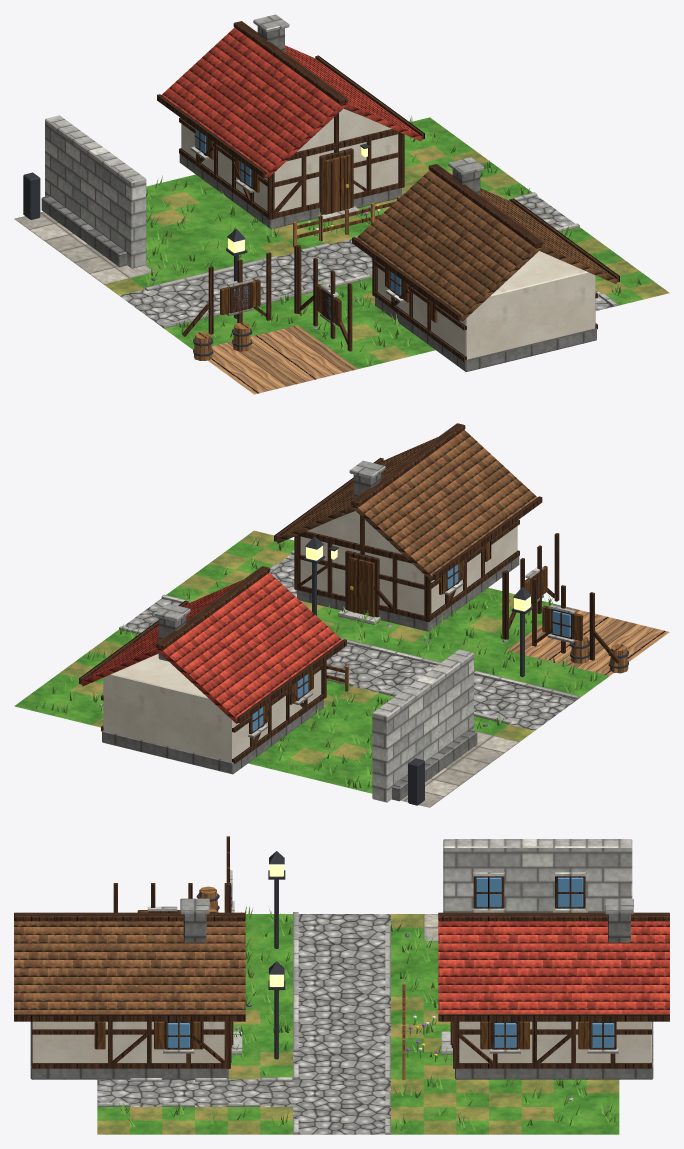
The model's file is chunk_7_5.glb.
3 views of the same model, one above another, from view 1: azimuth 30°, elevation 25°; view 2: azimuth 150°, elevation 25°; view 3: azimuth 270°, elevation 25° (orthographic). The views are drawn at different scales.
Visible parts, largest first — view 1: chunk_7_5; view 2: chunk_7_5; view 3: chunk_7_5.
Part boxes in pixels (x1,y1,x2,y2): chunk_7_5: [14, 14, 669, 394]; chunk_7_5: [14, 423, 669, 807]; chunk_7_5: [14, 836, 669, 1134].
Size of the model in its own units: 16.41 by 4.99 by 20.1.
25 materials, 17 textured.
